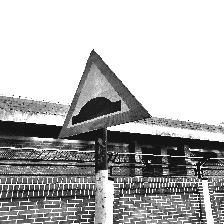Speed-breaker: (57, 49, 152, 138)
